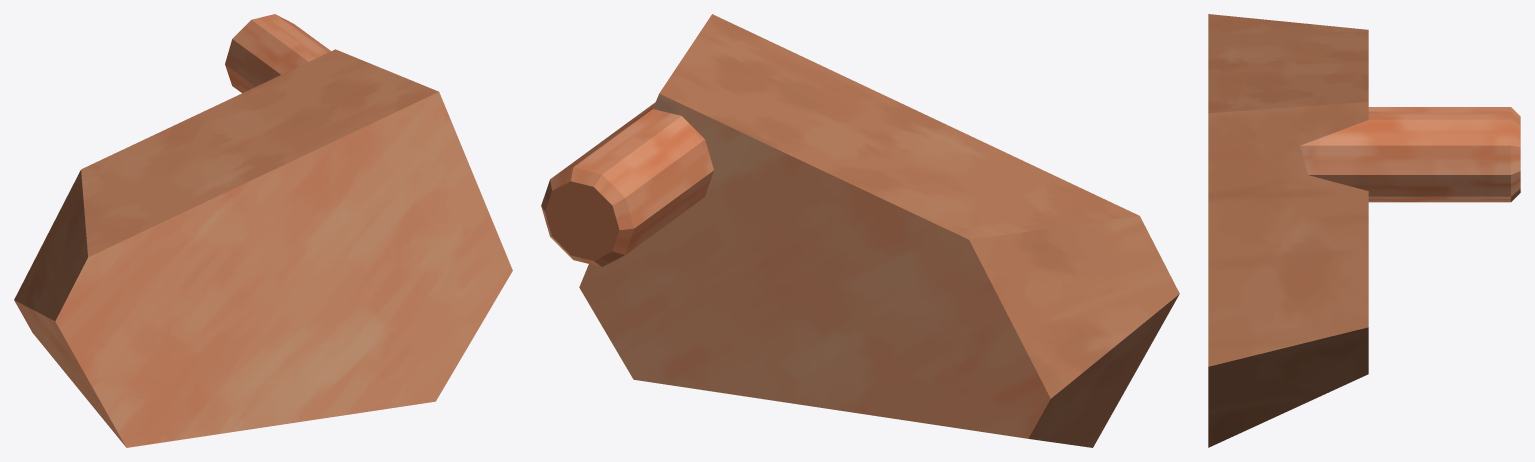
File: wall_window_s07.fbx
3 renders of one model, left to right at view 1: azimuth 30°, elevation 25°; view 2: azimuth 150°, elevation 25°; view 3: azimuth 270°, elevation 25°, orthographic. The views are drawn at different scales.
Visible parts, largest first — view 1: wall_window_s07; view 2: wall_window_s07; view 3: wall_window_s07.
Boxes of the visible parts, x1=… form: wall_window_s07: x1=14, y1=14, x2=512, y2=447; wall_window_s07: x1=541, y1=14, x2=1179, y2=447; wall_window_s07: x1=1208, y1=14, x2=1520, y2=447.
Bounding box in the file's own units: 3.59 × 2.32 × 1.95.
